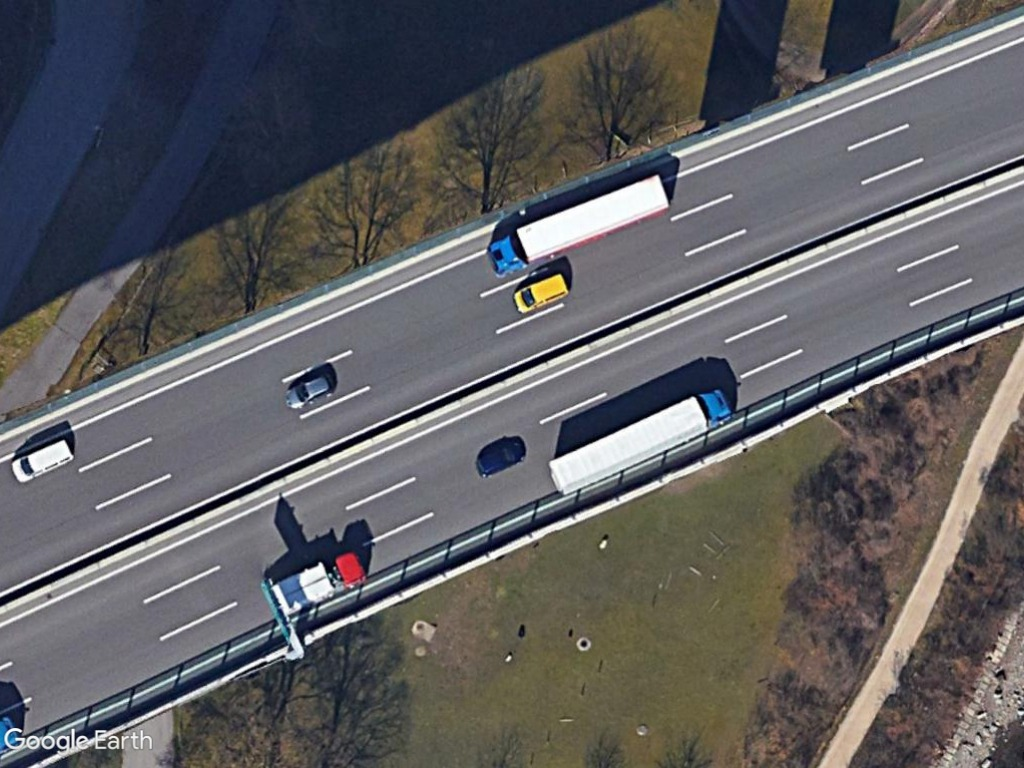car: (282, 370, 336, 412), (474, 438, 527, 479)
longvehicle: (547, 383, 734, 498), (485, 169, 673, 279)
van: (10, 434, 77, 486), (510, 269, 570, 315)
